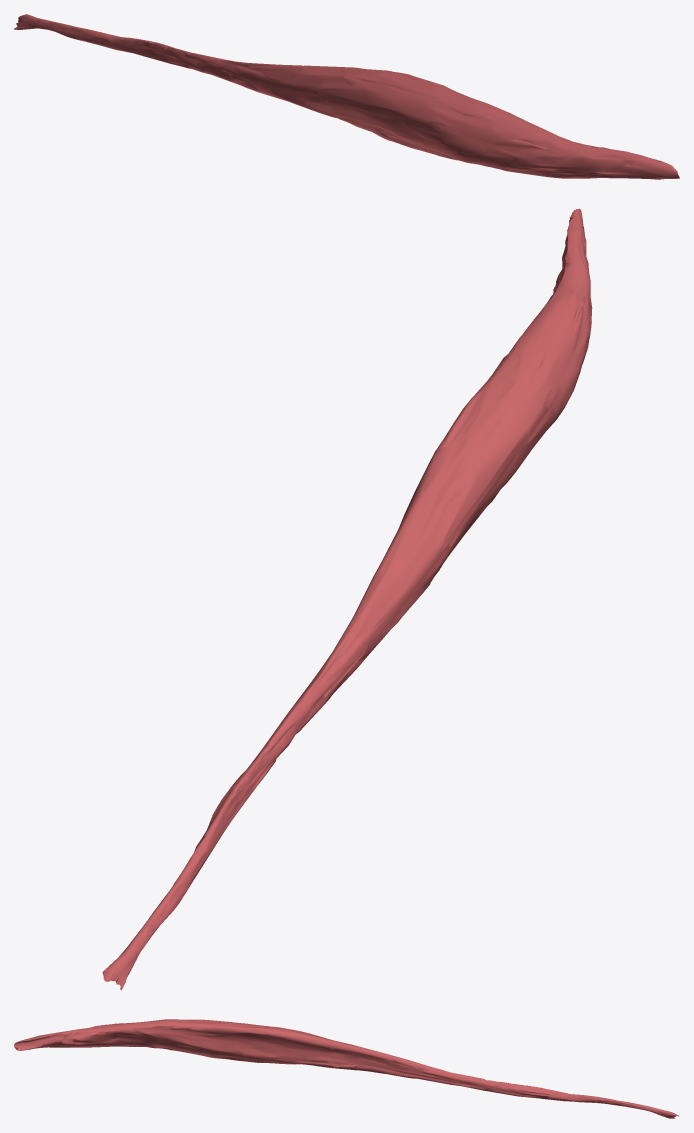
3 views of the same model, one above another, from view 1: azimuth 30°, elevation 25°; view 2: azimuth 150°, elevation 25°; view 3: azimuth 270°, elevation 25° (orthographic). The views are drawn at different scales.
Visible parts, largest first — view 1: 右侧桡侧腕长伸肌; view 2: 右侧桡侧腕长伸肌; view 3: 右侧桡侧腕长伸肌.
Part boxes in pixels (x1=…): 右侧桡侧腕长伸肌: x1=14, y1=14, x2=679, y2=179; 右侧桡侧腕长伸肌: x1=102, y1=208, x2=592, y2=990; 右侧桡侧腕长伸肌: x1=14, y1=1019, x2=679, y2=1118.
Bounding box in the file's own units: 0.088 × 0.1035 × 0.4908.
